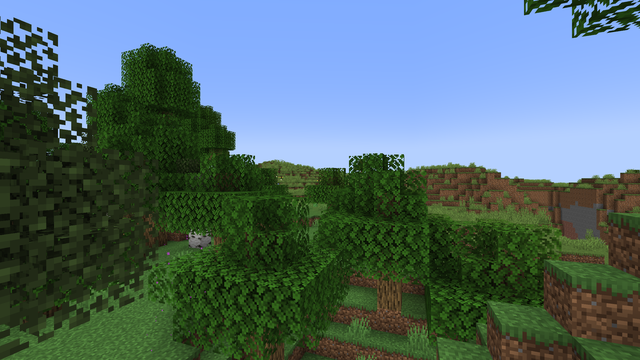slimes: (312, 203, 316, 206)
